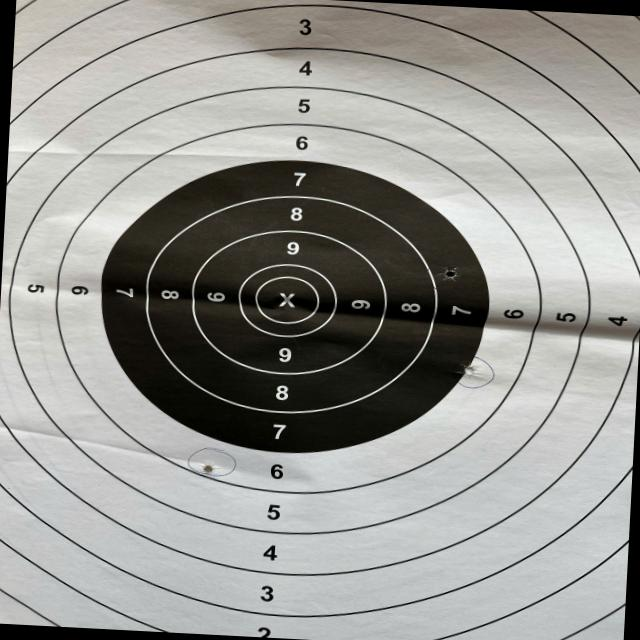bullet: (461, 364, 476, 376), (201, 463, 215, 473), (445, 268, 457, 278)
target: (0, 0, 640, 640)
